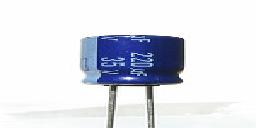Electrolytic Capacitor: (79, 33, 195, 128)
